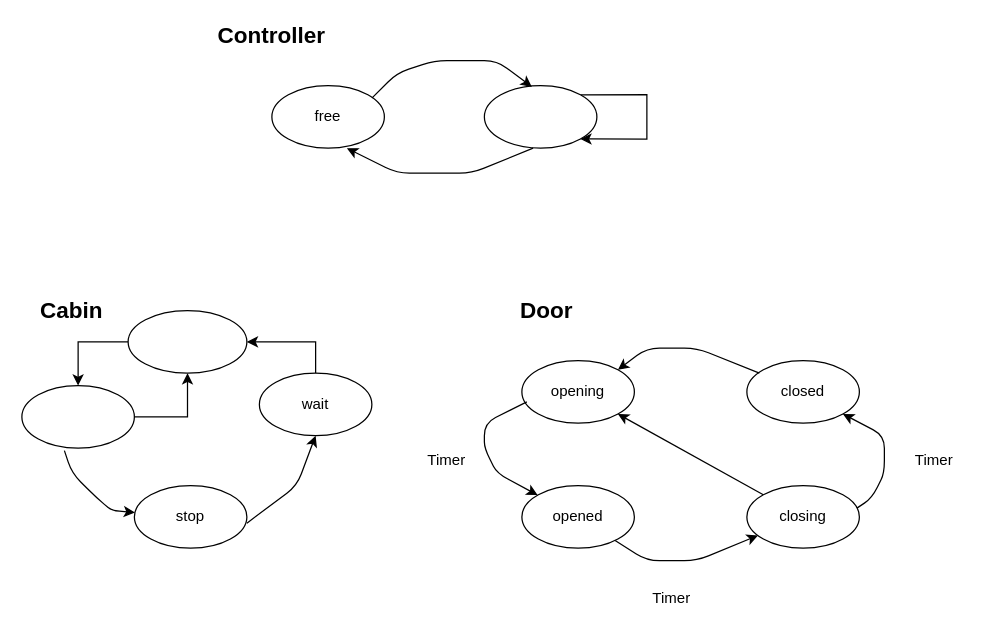
This 981x631 diagram has some shape labels left out. Each missing label, with the box of its shape:
busy: (483, 84, 597, 148)
moving: (21, 384, 134, 448)
start move: (127, 309, 247, 373)
